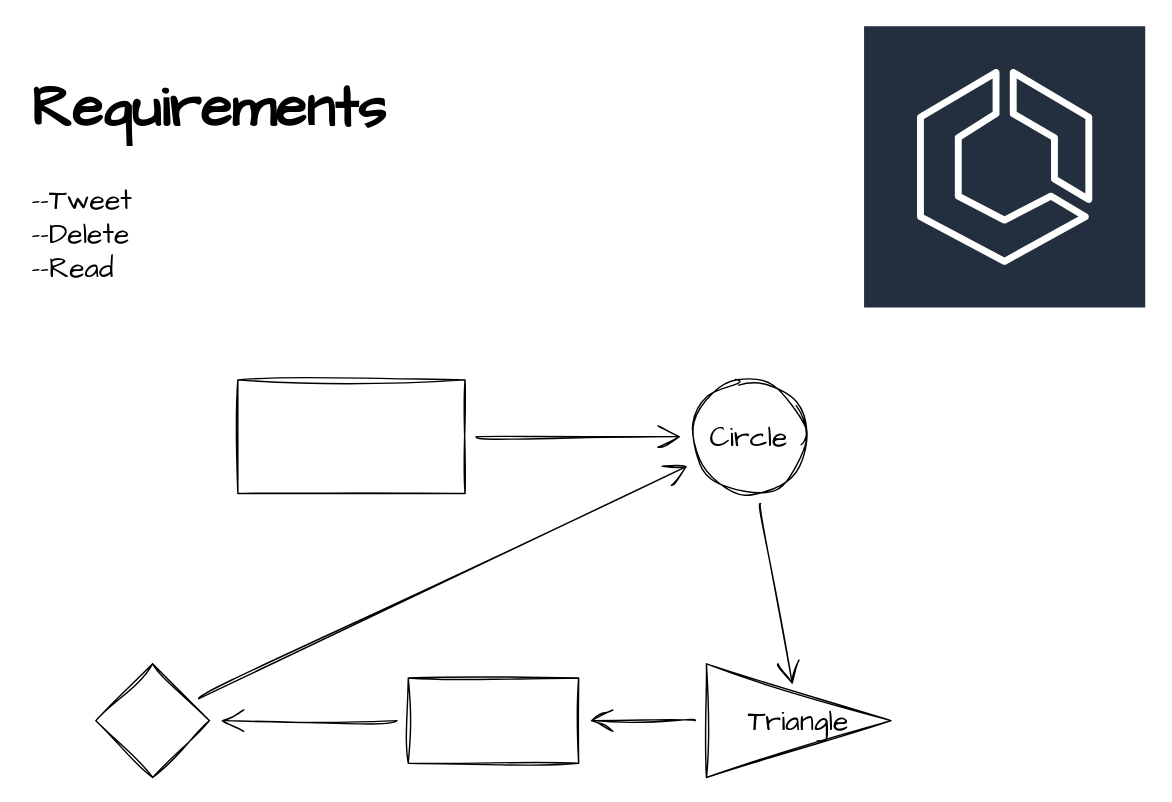
Image size: 1172x802. Some labels were removed from this diagram. The shapes that lost their labels are listed below. From the top down, each one's centre as x and y in pixels, then its label:
the point at 1004,180: Amazon ECS
the point at 350,435: Rectangle
